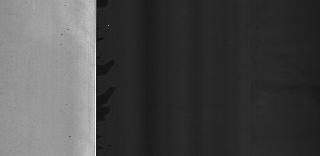inclusion: (66, 132, 78, 140), (58, 42, 66, 46), (66, 27, 72, 31), (59, 32, 65, 36), (62, 3, 66, 9)
silk spot: (1, 3, 35, 151)
